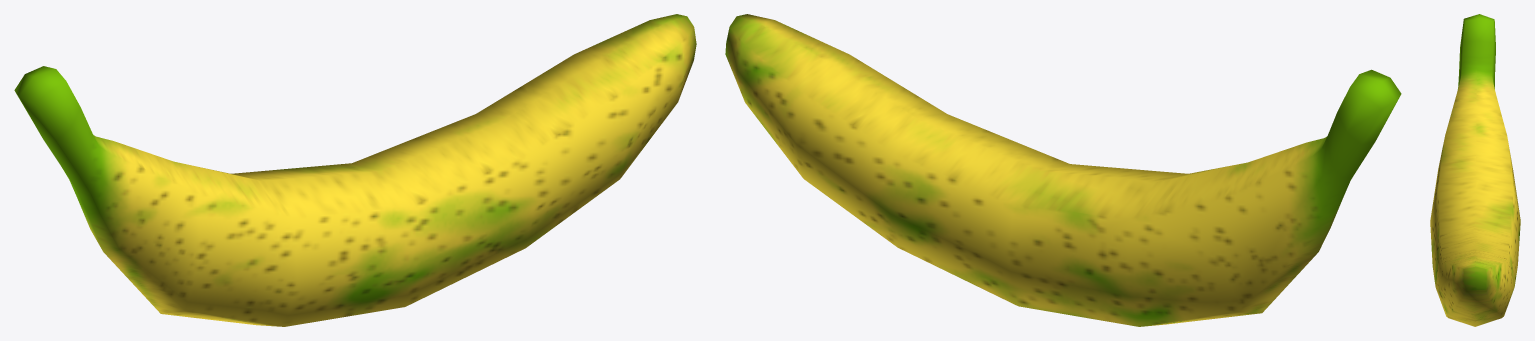
The model's file is banana.glb.
3 views of the same model, side by side, from view 1: azimuth 30°, elevation 25°; view 2: azimuth 150°, elevation 25°; view 3: azimuth 270°, elevation 25° (orthographic). The views are drawn at different scales.
Visible parts, largest first — view 1: banana; view 2: banana; view 3: banana.
Part boxes in pixels (x1,y1,x2,y2): banana: (14,14,696,326); banana: (725,14,1401,326); banana: (1430,14,1520,326).
Bounding box in the file's own units: 0.7658 × 0.3405 × 0.146.
Materials: 1 (1 with a texture image).
